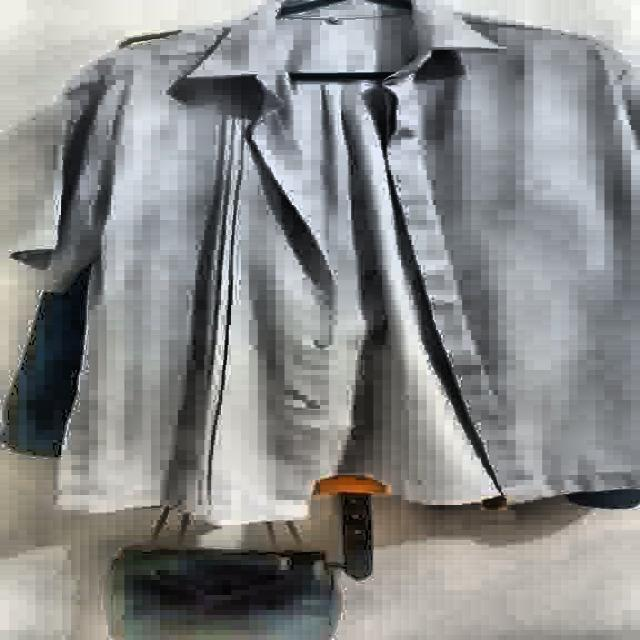clothes: (9, 0, 640, 529)
